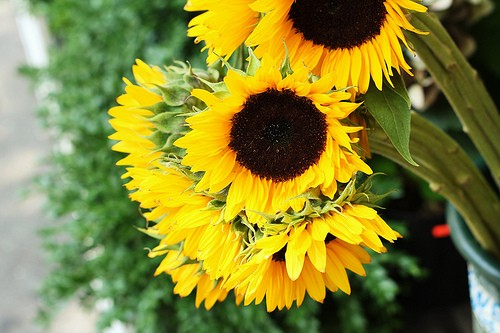flower: (172, 49, 374, 226), (241, 0, 439, 95)
